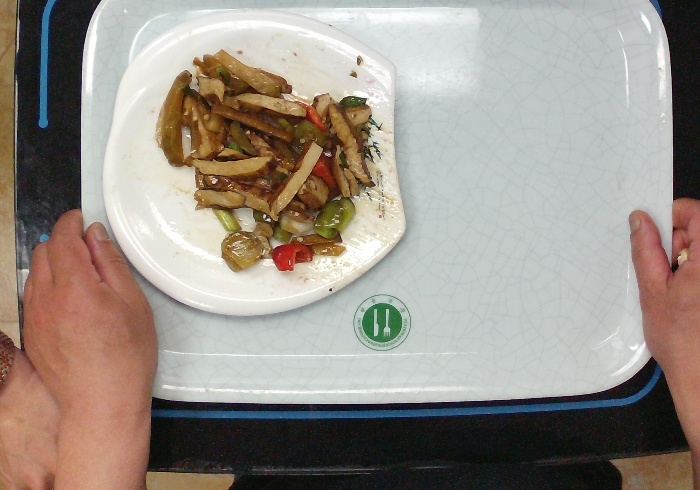JYsf-Mian_Pan: (99, 7, 406, 321)
